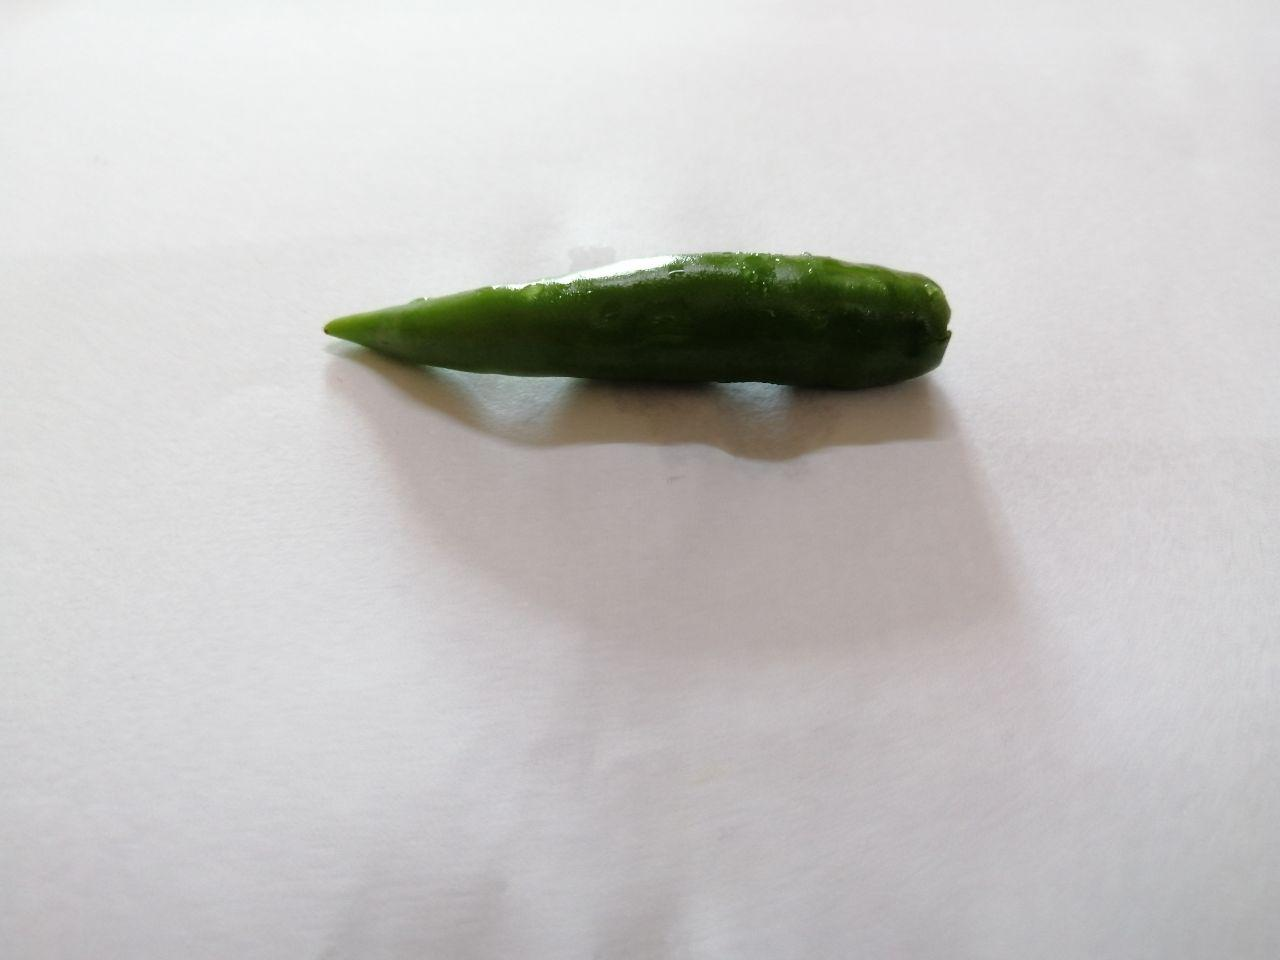lada hijau: (321, 214, 966, 443)
